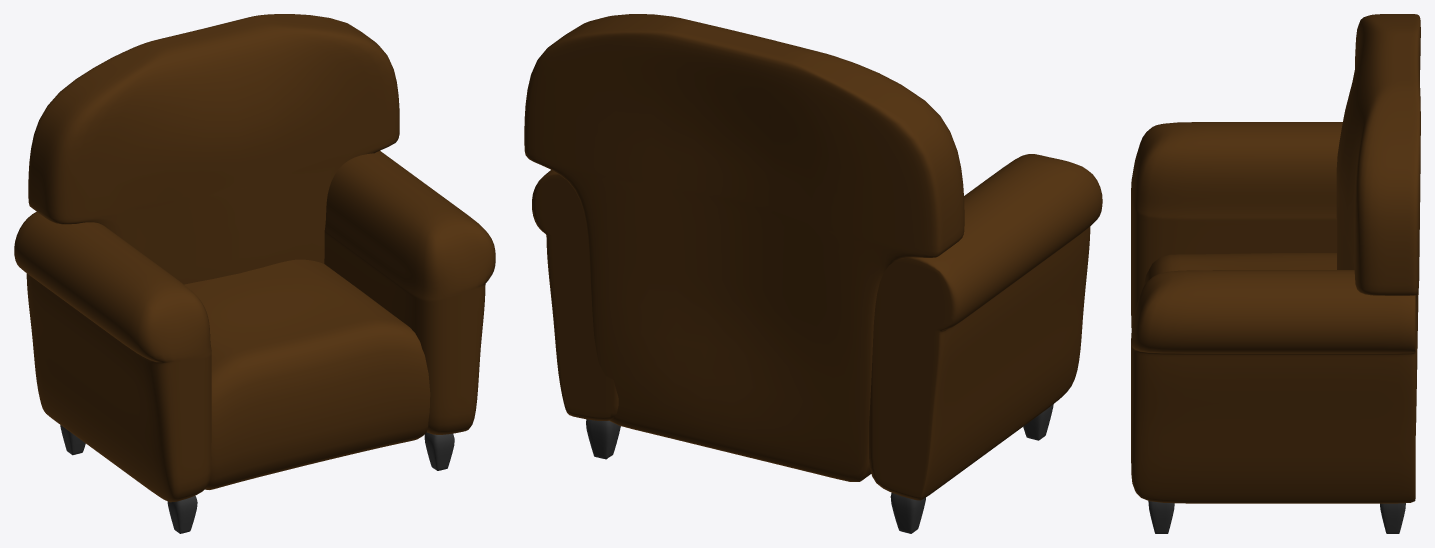
Rendered from compressed_Armchairv2.glb.
3 renders of one model, left to right at view 1: azimuth 30°, elevation 25°; view 2: azimuth 150°, elevation 25°; view 3: azimuth 270°, elevation 25°, orthographic. The views are drawn at different scales.
Visible parts, largest first — view 1: Cube, Cube.001, Cube.002, Cube.003; view 2: Cube, Cube.001, Cube.003; view 3: Cube.001, Cube, Cube.002, Cube.003.
Boxes of the visible parts, <box> form: Cube: <box>28,14,399,284</box>; Cube.001: <box>14,151,495,502</box>; Cube.002: <box>184,259,430,489</box>; Cube.003: <box>60,425,454,533</box>; Cube: <box>524,14,964,481</box>; Cube.001: <box>532,154,1102,500</box>; Cube.003: <box>586,404,1053,533</box>; Cube.001: <box>1131,122,1415,503</box>; Cube: <box>1336,14,1420,435</box>; Cube.002: <box>1143,253,1336,286</box>; Cube.003: <box>1148,501,1405,533</box>.
Bounding box in the file's own units: 1.28 × 1.27 × 0.8101.
